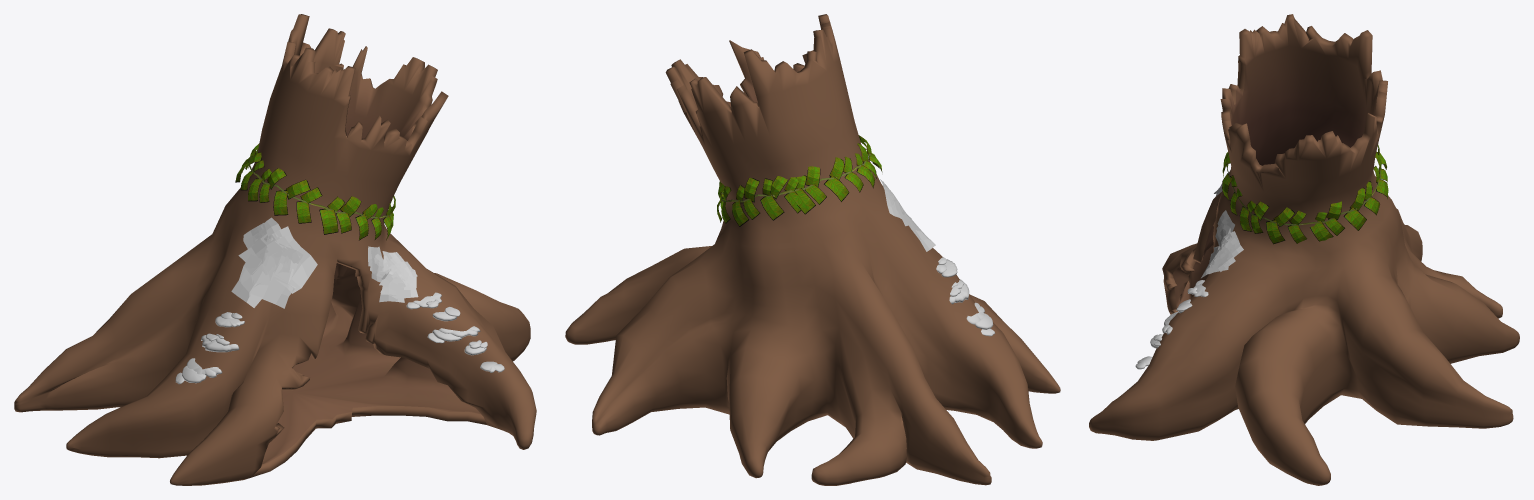
Rendered from TreeTrunk3.fbx.
3 renders of one model, left to right at view 1: azimuth 30°, elevation 25°; view 2: azimuth 150°, elevation 25°; view 3: azimuth 270°, elevation 25°, orthographic.
Visible parts, largest first — view 1: Tree, LeafClusterLEft, VineLEaves, LeafClusterRight, FungiRight, FungiLeft; view 2: Tree, VineLEaves, FungiLeft, LeafClusterLEft; view 3: Tree, VineLEaves, LeafClusterRight, FungiRight.
Boxes of the visible parts, x1=… form: Tree: x1=14, y1=14, x2=536, y2=485; LeafClusterLEft: x1=231, y1=217, x2=317, y2=308; VineLEaves: x1=235, y1=143, x2=395, y2=240; LeafClusterRight: x1=368, y1=246, x2=418, y2=302; FungiRight: x1=406, y1=292, x2=504, y2=372; FungiLeft: x1=175, y1=312, x2=244, y2=384; Tree: x1=565, y1=14, x2=1060, y2=485; VineLEaves: x1=717, y1=135, x2=882, y2=226; FungiLeft: x1=936, y1=257, x2=995, y2=336; LeafClusterLEft: x1=880, y1=179, x2=935, y2=251; Tree: x1=1089, y1=14, x2=1519, y2=485; VineLEaves: x1=1222, y1=144, x2=1388, y2=244; LeafClusterRight: x1=1201, y1=210, x2=1243, y2=278; FungiRight: x1=1135, y1=280, x2=1208, y2=369.
Bounding box in the file's own units: 802 × 591 × 637.
